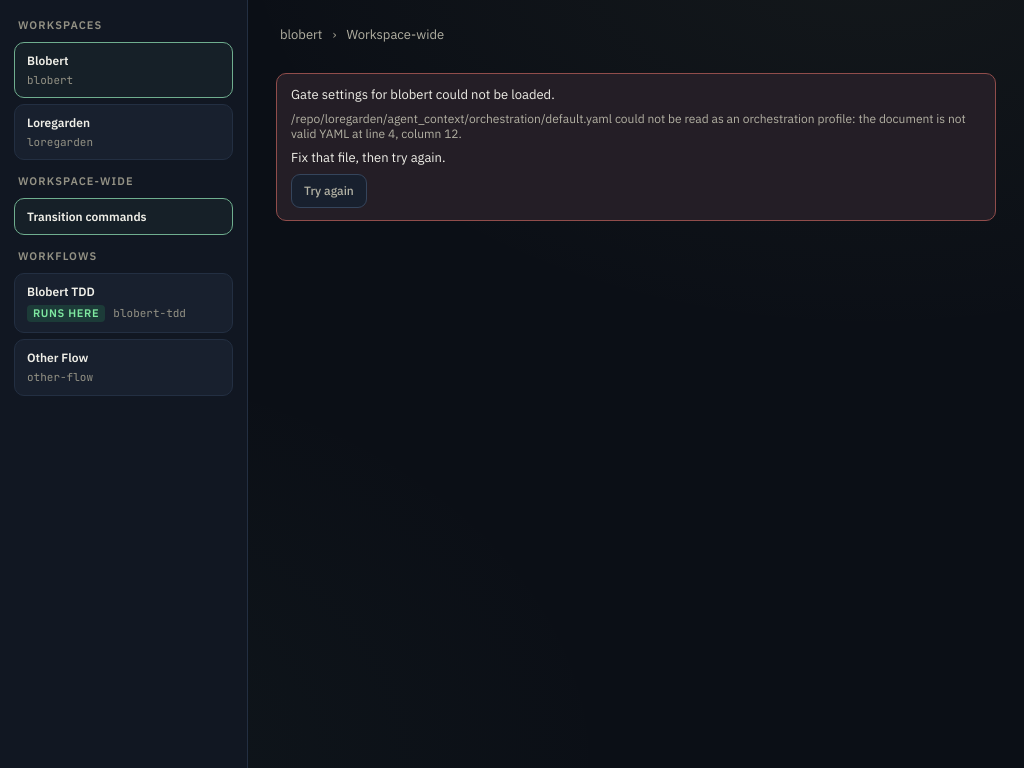
Test: GateStudioPanel › drops the held failure when the operator switches workspaces
Expected: the message shows "/repo/loregarden/agent_context/orchestration/default.yaml", x1=291 y1=111 x2=969 y2=141
Click the link "Loregarden loregarden" at (124, 132), box x1=14 y1=104 x2=233 y2=160
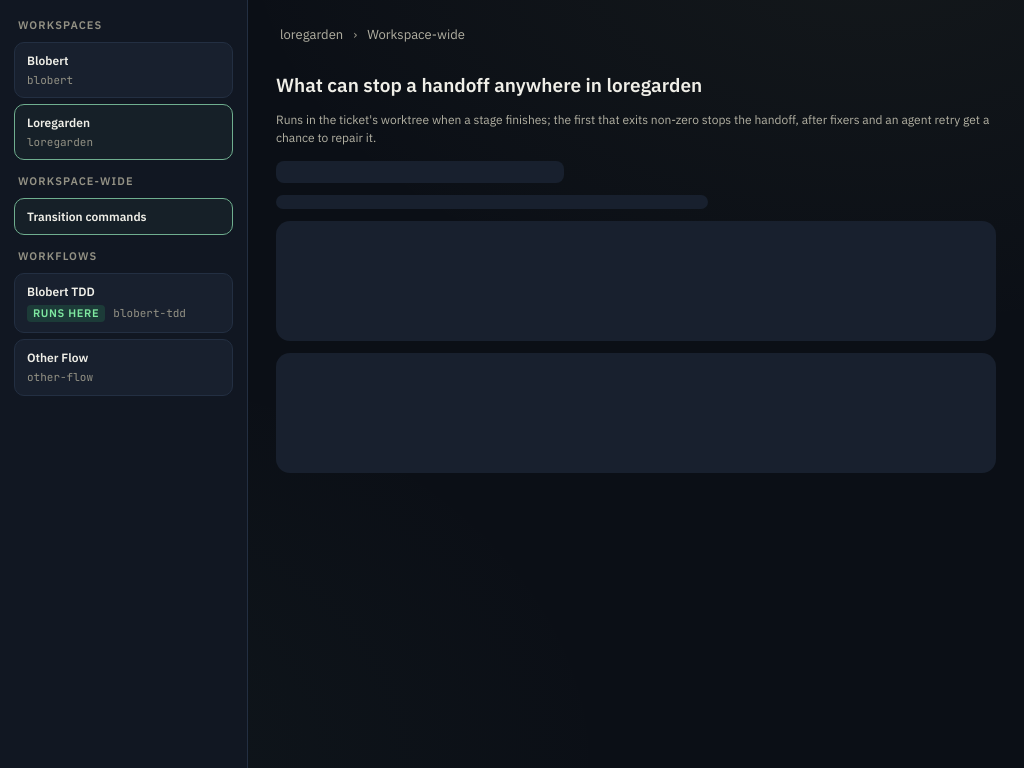
Now the text "/repo/loregarden/agent_context/orchestration/default.yaml" is gone
Now the text "could not be loaded" is gone
